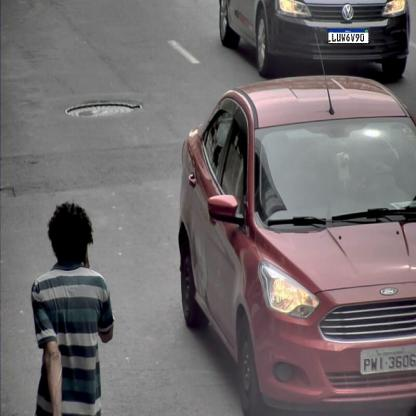PlacaM: (328, 28, 369, 44)
